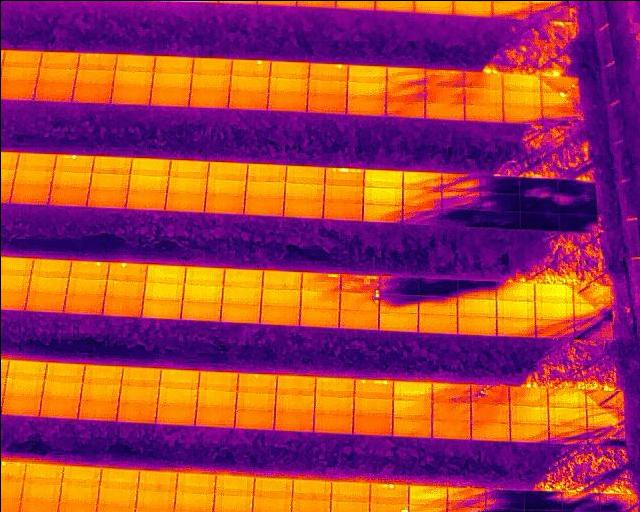Cell: (236, 373, 275, 393), (106, 262, 146, 280), (307, 62, 346, 80), (231, 58, 270, 76), (540, 76, 578, 92), (540, 92, 578, 107)
Cell-Multi: (369, 483, 408, 504), (353, 378, 392, 398), (324, 167, 363, 187), (53, 154, 93, 172), (339, 292, 378, 310), (300, 273, 339, 291), (67, 260, 108, 277), (340, 274, 378, 292), (77, 53, 115, 70)
No-Anomaly: (96, 488, 137, 510), (23, 463, 62, 485), (330, 480, 369, 502), (291, 478, 330, 500), (174, 472, 214, 493), (20, 484, 60, 505), (254, 476, 292, 498), (135, 491, 174, 512), (157, 387, 196, 408), (60, 485, 97, 507), (158, 368, 198, 388), (137, 470, 175, 491), (215, 475, 253, 496), (196, 389, 235, 409), (276, 375, 315, 395), (198, 371, 237, 391), (299, 306, 338, 326), (392, 417, 431, 437), (470, 403, 509, 423), (408, 486, 447, 506), (24, 292, 65, 311), (61, 465, 98, 486), (139, 300, 182, 318), (274, 395, 314, 414), (393, 380, 431, 400), (315, 376, 353, 396), (121, 366, 159, 386), (83, 364, 121, 384), (6, 359, 44, 379), (145, 263, 185, 282), (352, 416, 392, 435), (378, 311, 418, 330), (100, 297, 142, 315), (353, 397, 392, 416), (1, 396, 40, 415), (235, 392, 274, 411), (508, 387, 547, 406), (118, 386, 157, 405), (80, 383, 119, 402), (323, 184, 362, 203), (246, 162, 285, 181), (189, 88, 228, 107), (533, 283, 572, 302), (322, 201, 361, 220), (174, 493, 213, 512), (220, 304, 261, 322), (180, 300, 221, 318), (142, 282, 183, 300), (30, 258, 71, 276), (102, 279, 145, 296), (42, 382, 80, 401), (44, 362, 82, 381), (50, 187, 88, 206), (99, 469, 137, 488), (207, 161, 247, 179), (259, 305, 299, 323), (222, 268, 262, 286), (431, 420, 471, 438), (194, 409, 234, 427), (116, 405, 156, 423), (417, 314, 457, 332), (65, 277, 107, 294), (16, 152, 53, 171), (314, 397, 353, 415), (165, 194, 204, 212), (88, 190, 127, 208), (11, 186, 50, 204), (245, 181, 284, 199), (363, 169, 402, 187), (285, 165, 324, 183), (130, 157, 169, 175), (91, 155, 130, 173), (502, 104, 541, 122), (464, 103, 503, 121), (306, 94, 345, 112), (111, 86, 150, 104), (495, 299, 534, 317), (457, 297, 496, 315), (65, 294, 104, 312), (261, 269, 300, 287), (269, 60, 308, 78), (192, 56, 231, 74), (470, 423, 509, 441), (313, 415, 352, 433), (235, 411, 274, 429), (457, 315, 496, 333), (495, 318, 534, 336), (183, 266, 224, 283), (431, 402, 469, 420), (127, 191, 165, 209), (90, 172, 128, 190), (169, 159, 207, 177), (268, 92, 306, 110), (502, 88, 540, 106), (72, 84, 110, 102), (230, 74, 268, 92), (191, 71, 229, 89), (347, 64, 385, 82), (39, 51, 77, 69), (362, 187, 402, 204), (424, 102, 464, 119), (260, 288, 300, 305), (221, 286, 261, 303), (283, 200, 323, 217), (243, 198, 283, 215), (114, 54, 154, 71), (273, 414, 313, 431), (78, 402, 117, 419), (392, 400, 431, 417), (285, 183, 324, 200), (205, 179, 244, 196), (51, 171, 90, 188), (13, 169, 52, 186), (346, 98, 385, 115), (464, 86, 503, 103), (34, 83, 73, 100), (300, 291, 339, 308), (204, 196, 243, 213), (113, 70, 152, 87), (153, 55, 192, 72), (1, 49, 40, 66), (452, 1, 491, 18), (508, 423, 547, 440), (213, 495, 252, 512), (156, 408, 195, 425), (339, 311, 378, 328), (181, 284, 222, 300), (28, 276, 69, 292), (40, 401, 78, 418), (4, 380, 42, 397), (229, 92, 267, 109), (347, 80, 385, 97), (152, 71, 190, 88), (75, 68, 113, 85), (509, 406, 547, 423), (533, 302, 573, 318), (128, 174, 167, 190), (269, 77, 308, 93), (0, 81, 34, 99), (168, 177, 206, 193), (150, 89, 188, 105), (308, 79, 346, 95), (37, 68, 75, 84), (502, 74, 539, 90), (0, 66, 37, 82), (252, 497, 291, 512)
Shadowing: (546, 387, 585, 408), (431, 381, 470, 402), (484, 487, 523, 508), (469, 384, 508, 404), (447, 486, 484, 507), (586, 424, 624, 444), (418, 295, 457, 314), (379, 293, 418, 312), (557, 212, 596, 231), (478, 210, 519, 228), (523, 490, 561, 509), (440, 172, 478, 191), (402, 170, 440, 189), (572, 282, 610, 301), (478, 192, 518, 210), (378, 275, 418, 293), (586, 389, 623, 408), (402, 206, 439, 225), (562, 492, 601, 510), (557, 194, 596, 212), (385, 82, 424, 100), (572, 318, 611, 336), (440, 191, 478, 209), (530, 0, 568, 18), (547, 407, 585, 425), (424, 85, 464, 102), (362, 204, 402, 221), (520, 212, 557, 230), (385, 100, 424, 117), (457, 280, 496, 297), (418, 278, 457, 295), (440, 209, 479, 226), (424, 69, 463, 86), (386, 66, 425, 83), (491, 0, 530, 17), (518, 195, 556, 212), (402, 189, 440, 206), (519, 178, 557, 195), (573, 302, 611, 319), (496, 283, 534, 300), (547, 426, 585, 443), (585, 408, 623, 425), (535, 319, 573, 336), (478, 176, 518, 192), (601, 494, 637, 511), (541, 106, 579, 122), (463, 71, 501, 87), (557, 181, 595, 195)
